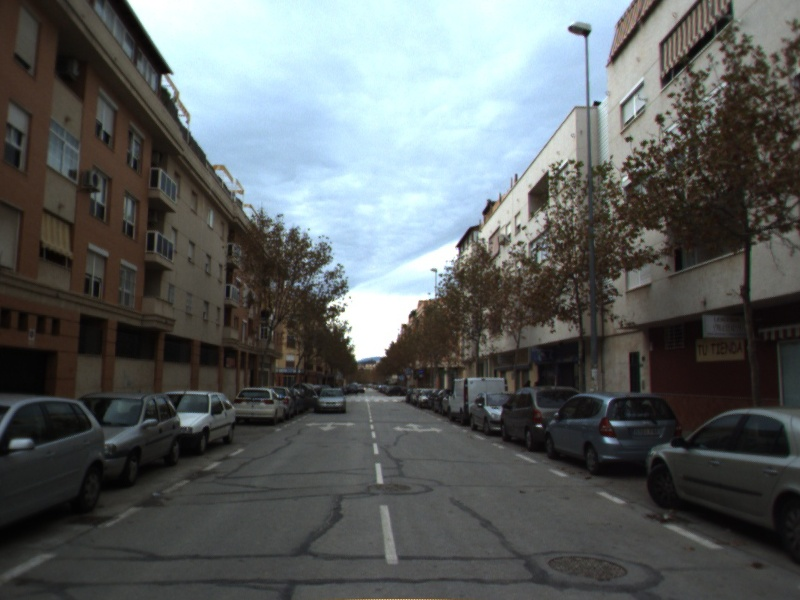STRAIGHT_LEFT_RIGHT: (391, 421, 445, 434)
